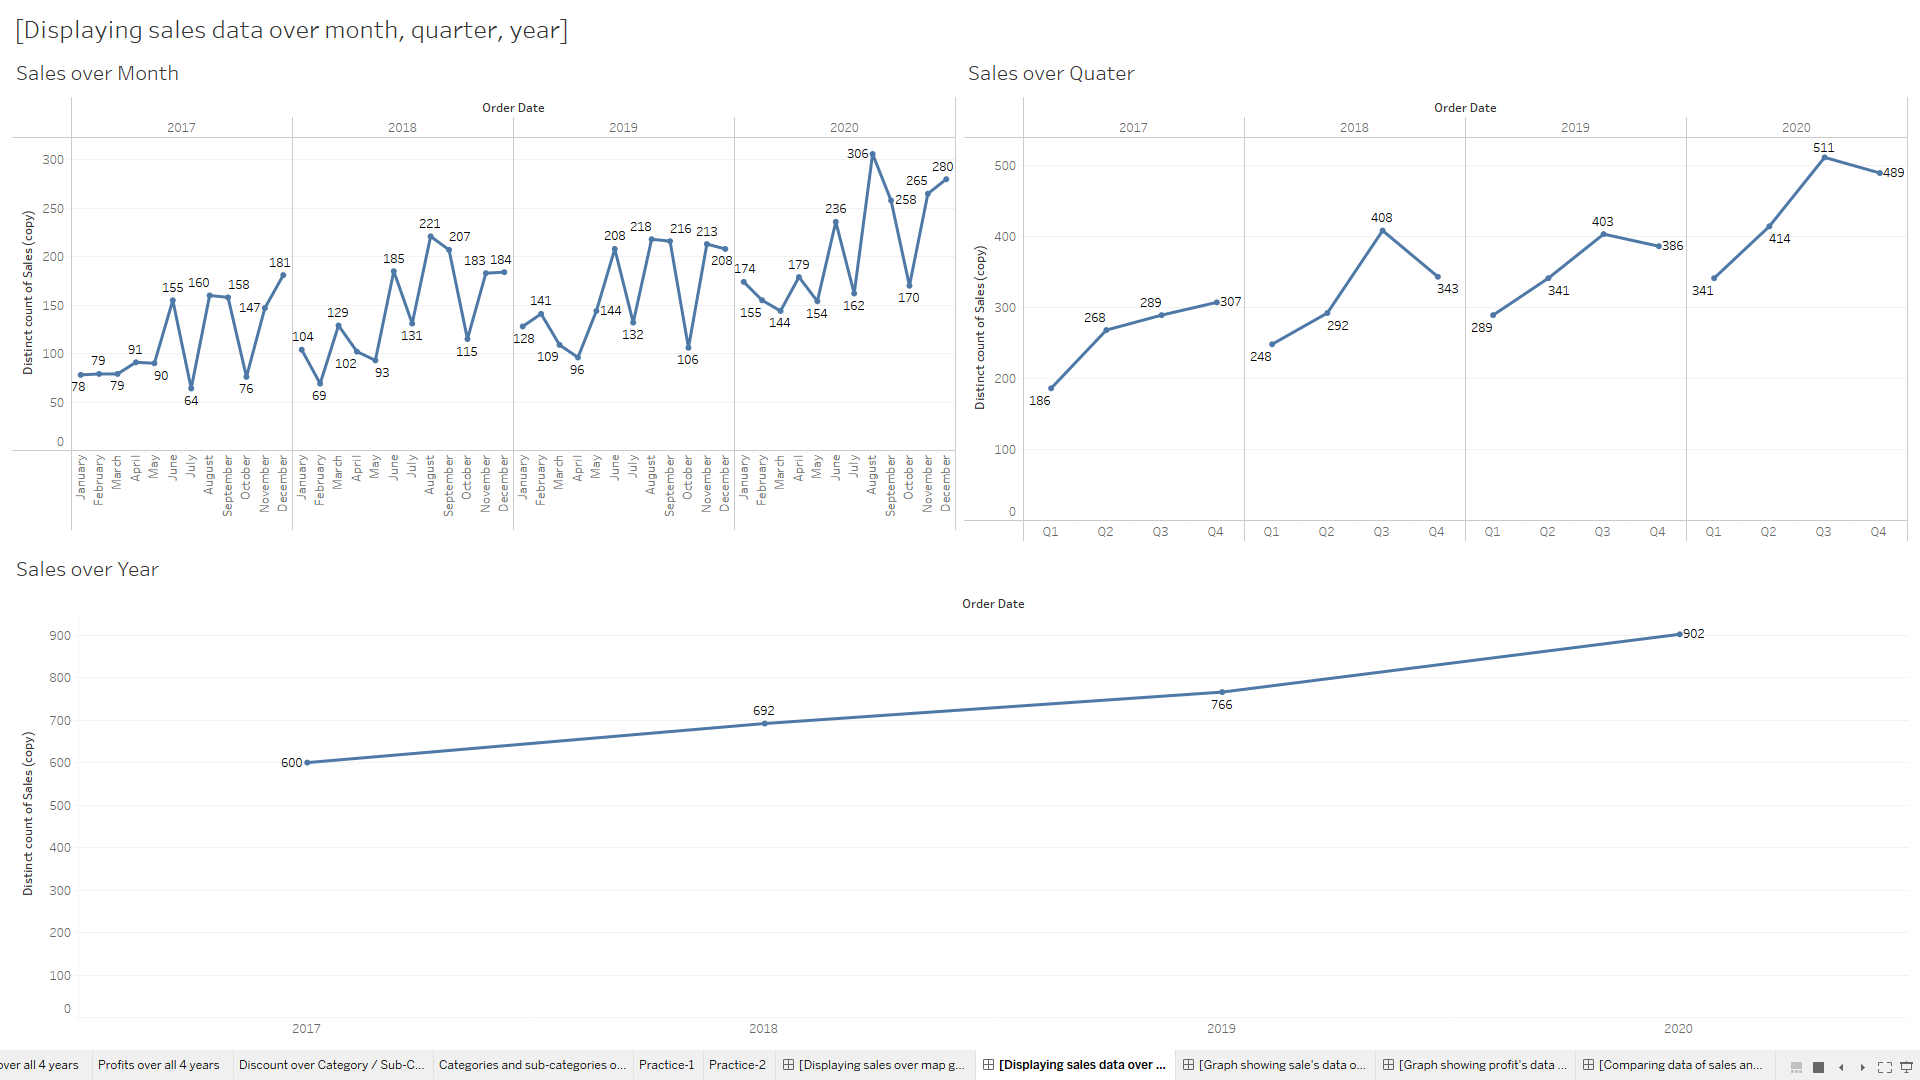

The page's visual inventory and layout, read from the dashboard file:
{"tool":"tableau","page":{"name":"[Displaying sales data over month, quarter, year]","canvas":[1000,1000],"units":"permille","ordinal":1},"visuals":[{"type":"title","box":[5,8.8,990,46.5]},{"type":"worksheet","title":"Sales over Month","mark":"Automatic","rows":["Sales (copy)_855965427656978433"],"cols":["Order Date","Order Date"],"box":[5,55.3,495,467.9]},{"type":"worksheet","title":"Sales over Quater","mark":"Automatic","rows":["Sales (copy)_855965427656978433"],"cols":["Order Date","Order Date"],"box":[500,55.3,495,467.9]},{"type":"worksheet","title":"Sales over Year","mark":"Automatic","rows":["Sales (copy)_855965427656978433"],"cols":["Order Date"],"box":[5,523.2,990,467.9]}]}

Visuals, with their boxes on the dashboard's canvas, which has no fixed pixel size, in thousandths of its width and height (x1, y1, x2, y2). These are canvas units, not pixel positions in the 1920x1080 screenshot, which may show the page scaled, cropped or inside an application window:
title: {"x1": 5, "y1": 9, "x2": 995, "y2": 55}
"Sales over Month" worksheet: {"x1": 5, "y1": 55, "x2": 500, "y2": 523}
"Sales over Quater" worksheet: {"x1": 500, "y1": 55, "x2": 995, "y2": 523}
"Sales over Year" worksheet: {"x1": 5, "y1": 523, "x2": 995, "y2": 991}
